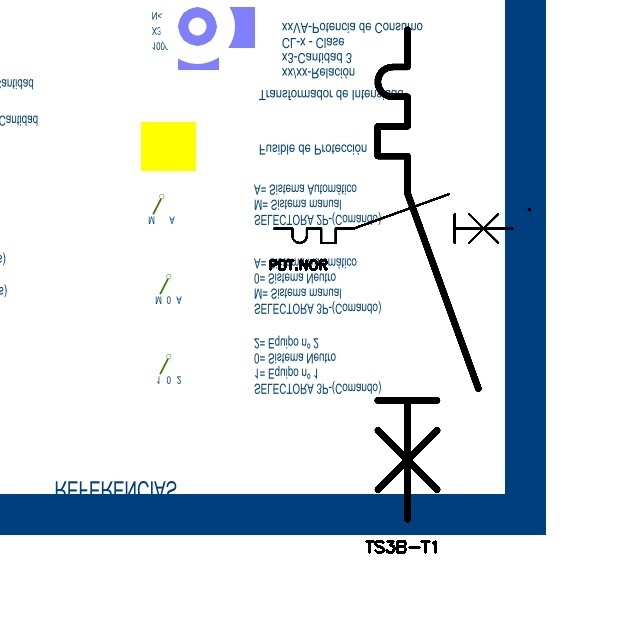interruptor_termomagnetico: (365, 17, 491, 532), (268, 188, 519, 249)
